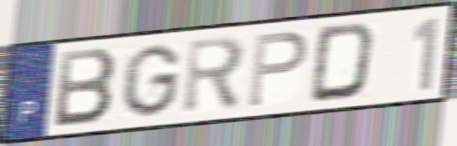1: (412, 15, 441, 93)
B: (52, 45, 119, 130)
D: (306, 19, 379, 105)
G: (117, 42, 183, 119)
P: (245, 29, 310, 110)
R: (180, 34, 249, 118)
